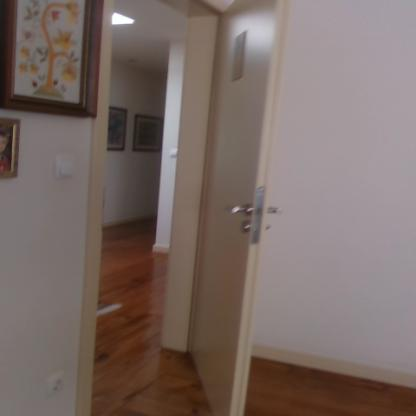semi: (79, 0, 288, 415)
